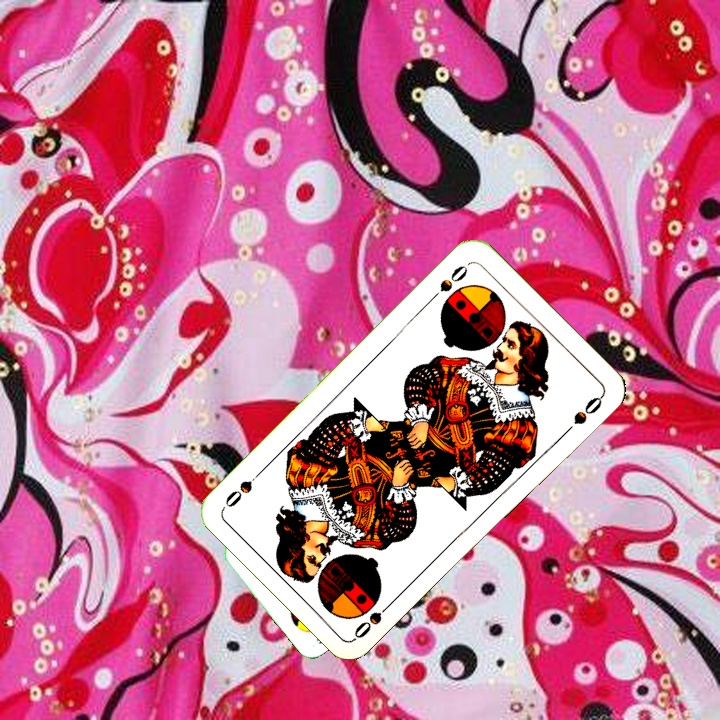SO: (350, 595, 398, 642), (425, 259, 472, 305)
